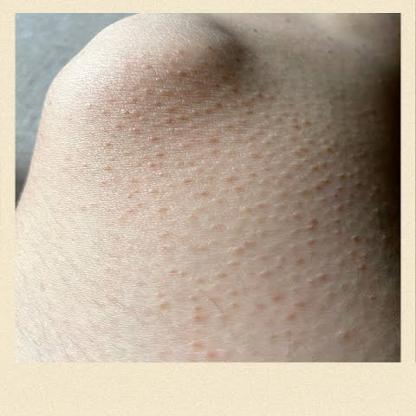Chicken Skin: (204, 92, 314, 246), (291, 143, 383, 313), (120, 61, 227, 143)
